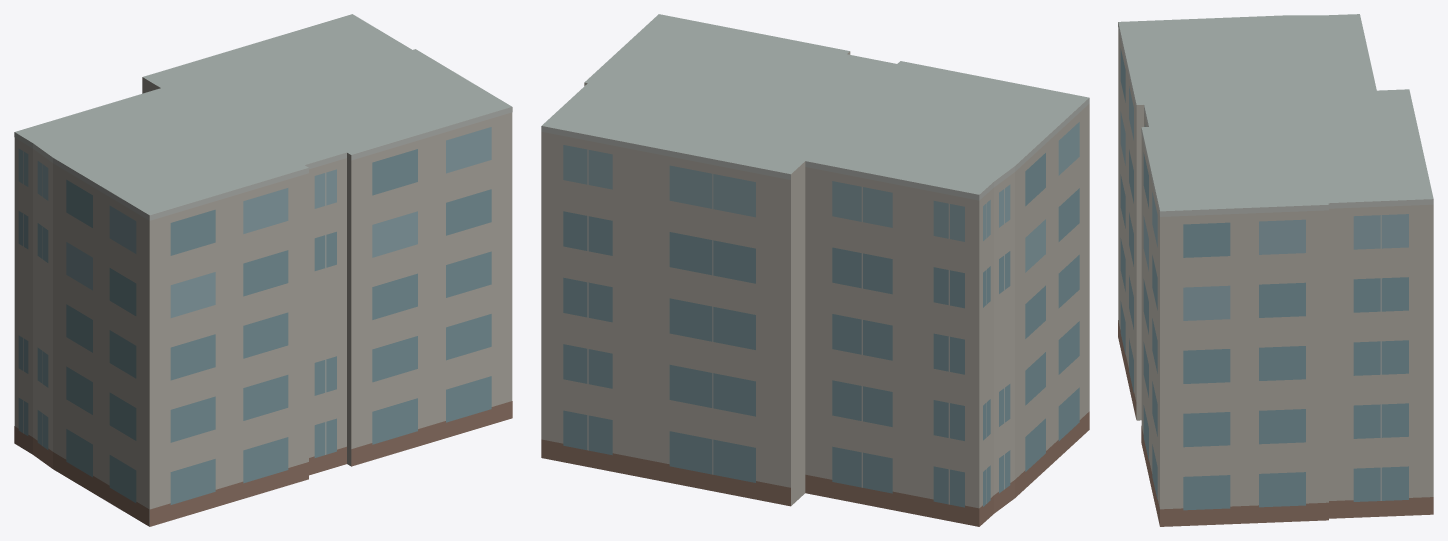
Rendered from survey-upis-32757036.glb.
The picture shows the model from 3 angles, left to right: view 1: azimuth 30°, elevation 25°; view 2: azimuth 150°, elevation 25°; view 3: azimuth 270°, elevation 25°; orthographic projection. The views are drawn at different scales.
Visible parts, largest first — view 1: survey-upis-32757036.tmp; view 2: survey-upis-32757036.tmp; view 3: survey-upis-32757036.tmp.
Part boxes in pixels (x1,y1,x2,y2): survey-upis-32757036.tmp: (14, 14, 512, 526); survey-upis-32757036.tmp: (541, 14, 1089, 526); survey-upis-32757036.tmp: (1118, 14, 1433, 526).
Bounding box in the file's own units: 18.66 × 13.9 × 12.6.
